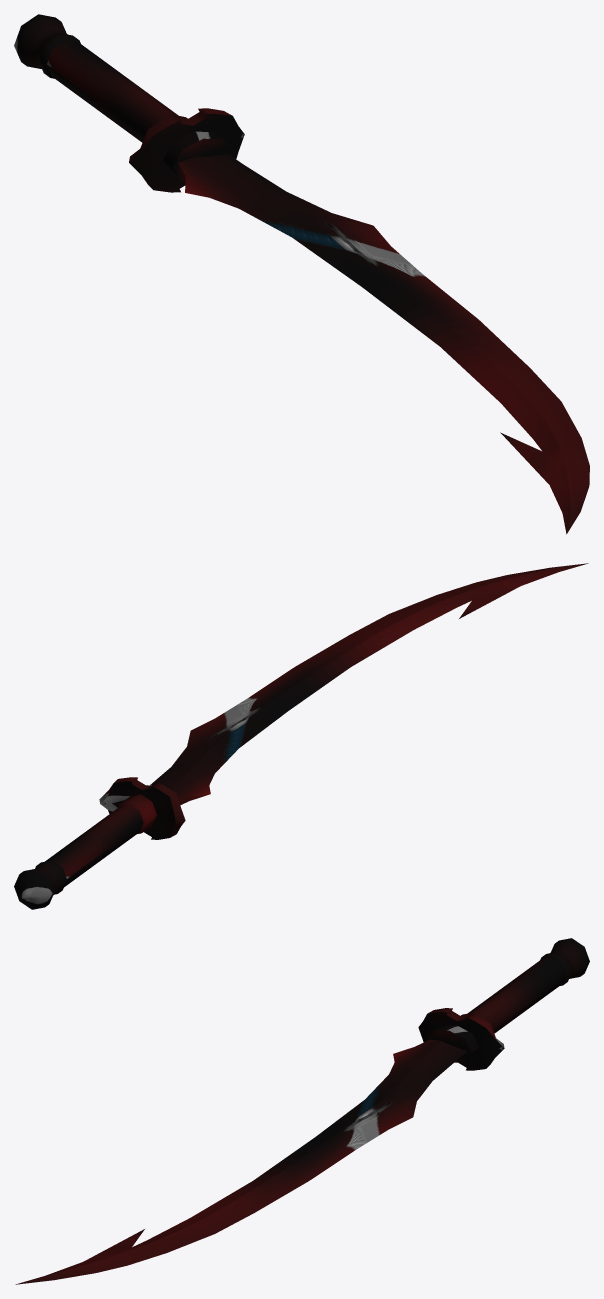
File: ThunderstormDualSword.fbx
3 renders of one model, top to bottom at view 1: azimuth 30°, elevation 25°; view 2: azimuth 150°, elevation 25°; view 3: azimuth 330°, elevation 25°, orthographic. The views are drawn at different scales.
Visible parts, largest first — view 1: Assassin Sword_Assassin Sword_0; view 2: Assassin Sword_Assassin Sword_0; view 3: Assassin Sword_Assassin Sword_0.
Boxes of the visible parts, left/top/right/bottom form: Assassin Sword_Assassin Sword_0: left=14, top=14, right=589, bottom=534; Assassin Sword_Assassin Sword_0: left=14, top=563, right=588, bottom=909; Assassin Sword_Assassin Sword_0: left=15, top=938, right=589, bottom=1284.
Size of the model in its own units: 18.75 by 7.52 by 123.
